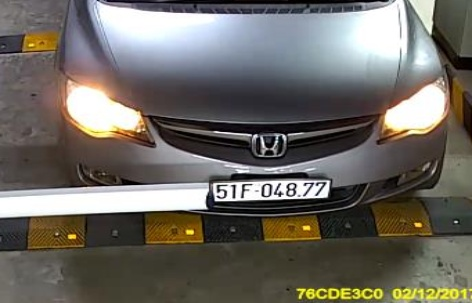plate: (210, 179, 335, 206)
